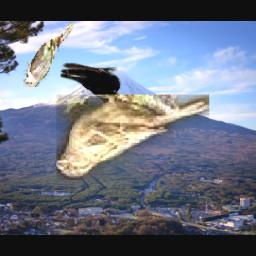Cuckoo: (23, 22, 74, 87)
Sparrow: (56, 95, 209, 180)
Swallow: (61, 64, 126, 105)
